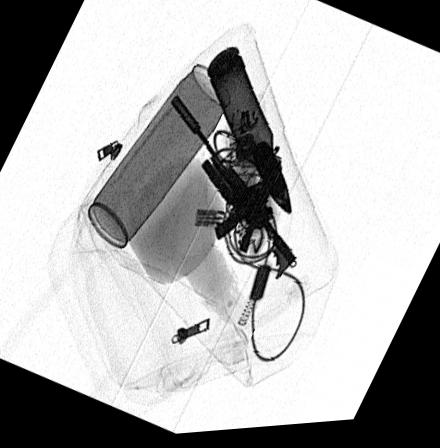Bullet: (204, 47, 290, 221)
Gun: (168, 96, 297, 285)
